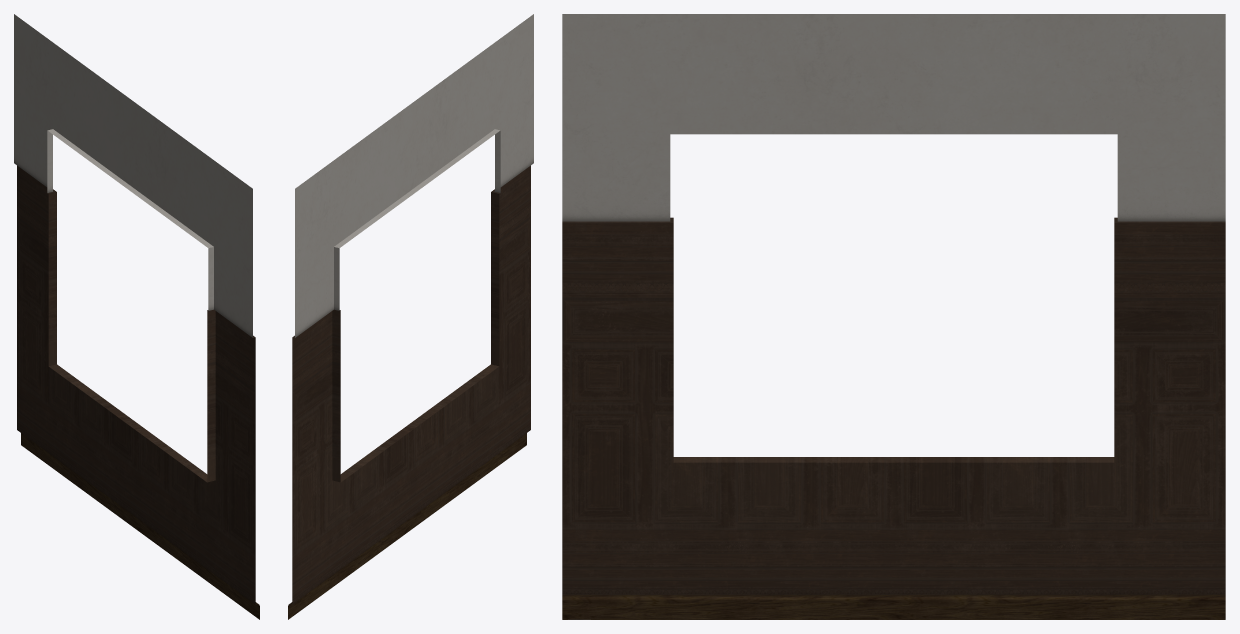
The model's file is Principal Office 4m Window A.fbx.
The picture shows the model from 3 angles, left to right: view 1: azimuth 30°, elevation 25°; view 2: azimuth 150°, elevation 25°; view 3: azimuth 270°, elevation 25°; orthographic projection. The views are drawn at different scales.
Visible parts, largest first — view 1: Principle_Office_4M_Window_A; view 2: Principle_Office_4M_Window_A; view 3: Principle_Office_4M_Window_A.
Boxes of the visible parts, x1,y1,x2,y2 form: Principle_Office_4M_Window_A: [14, 14, 259, 619]; Principle_Office_4M_Window_A: [288, 14, 533, 619]; Principle_Office_4M_Window_A: [562, 14, 1225, 619].
Size of the model in its own units: 12.13 by 400 by 400.
